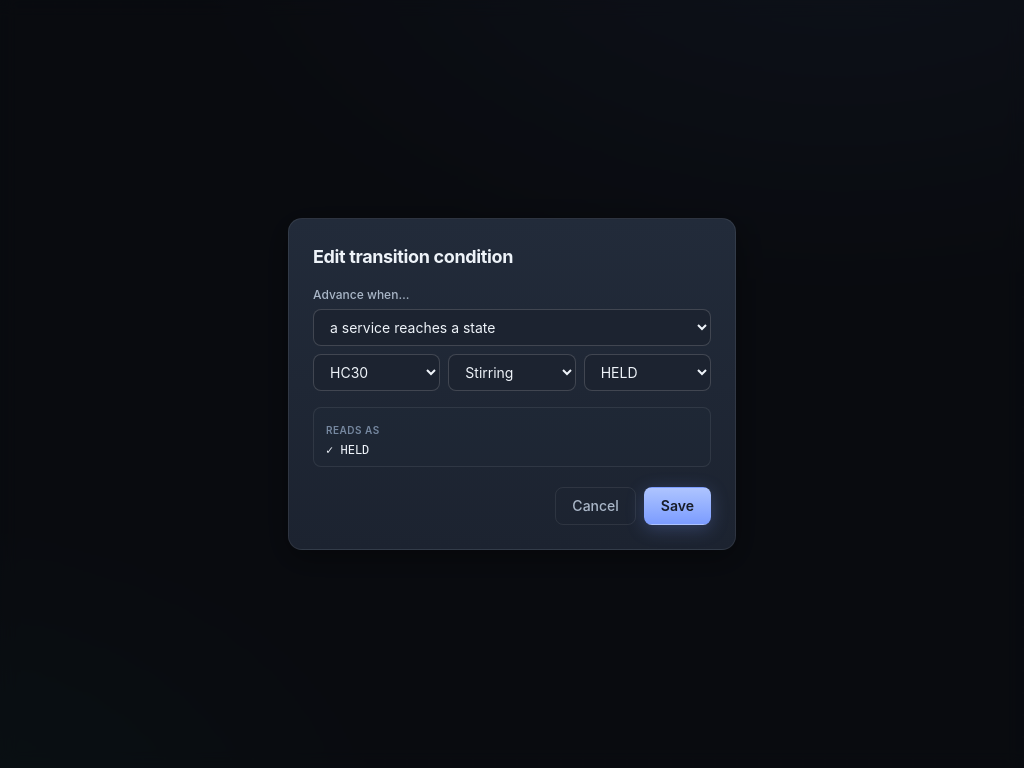
Scenario: Save is gated on a complete tree › is disabled while a nested leaf is unfilled
The image size is (1024, 768).
Select "ALL of…" in the dropdown named "Condition kind" at (512, 328), box left=313, top=309, right=711, bottom=346
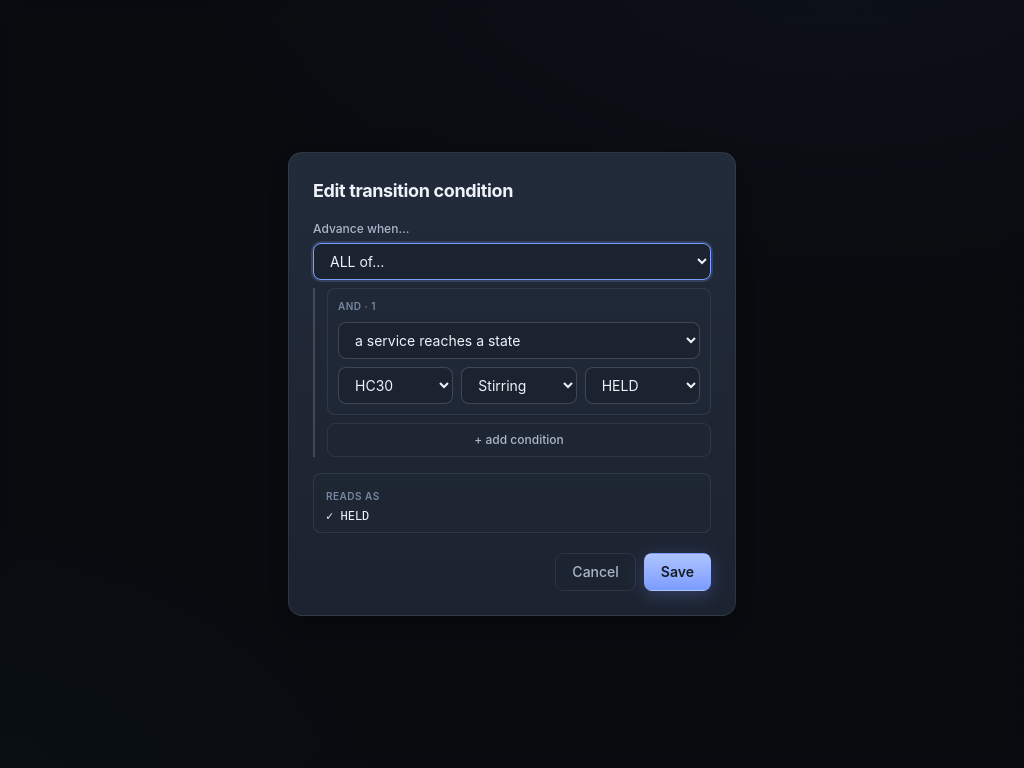
Click the button "+ add condition" at (519, 440), box left=327, top=423, right=711, bottom=457
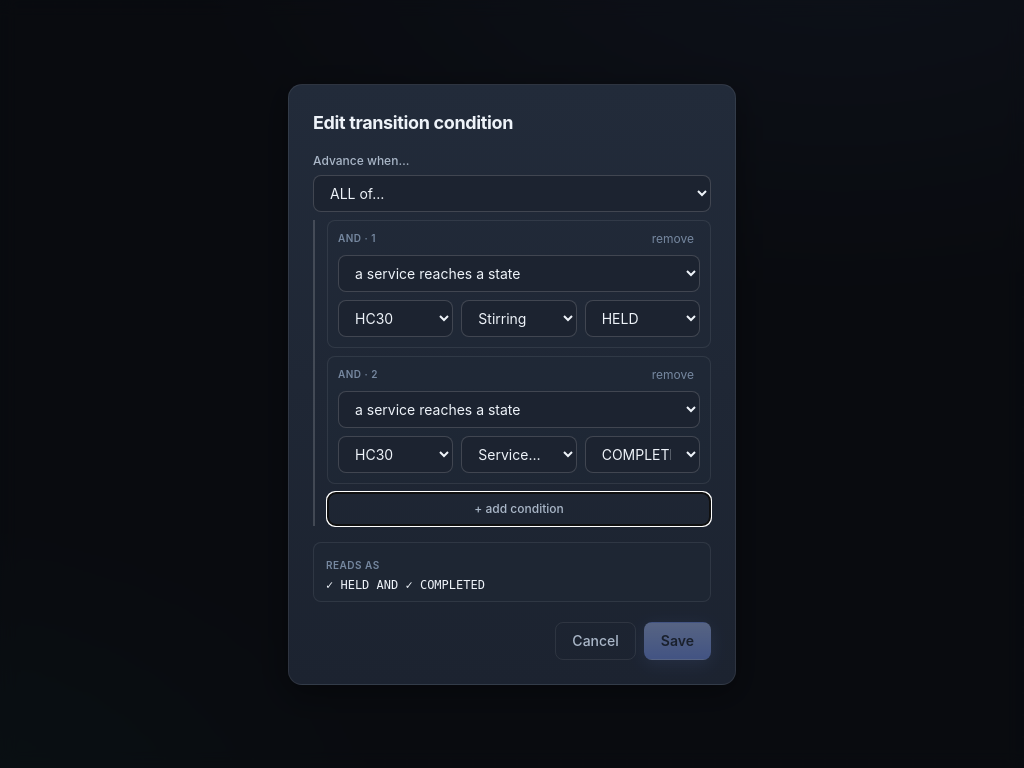
Now the button "Save" is disabled, box left=644, top=622, right=711, bottom=660
Select "Stirring" in the 2nd dropdown named "Service" at (519, 454), box left=461, top=436, right=577, bottom=472
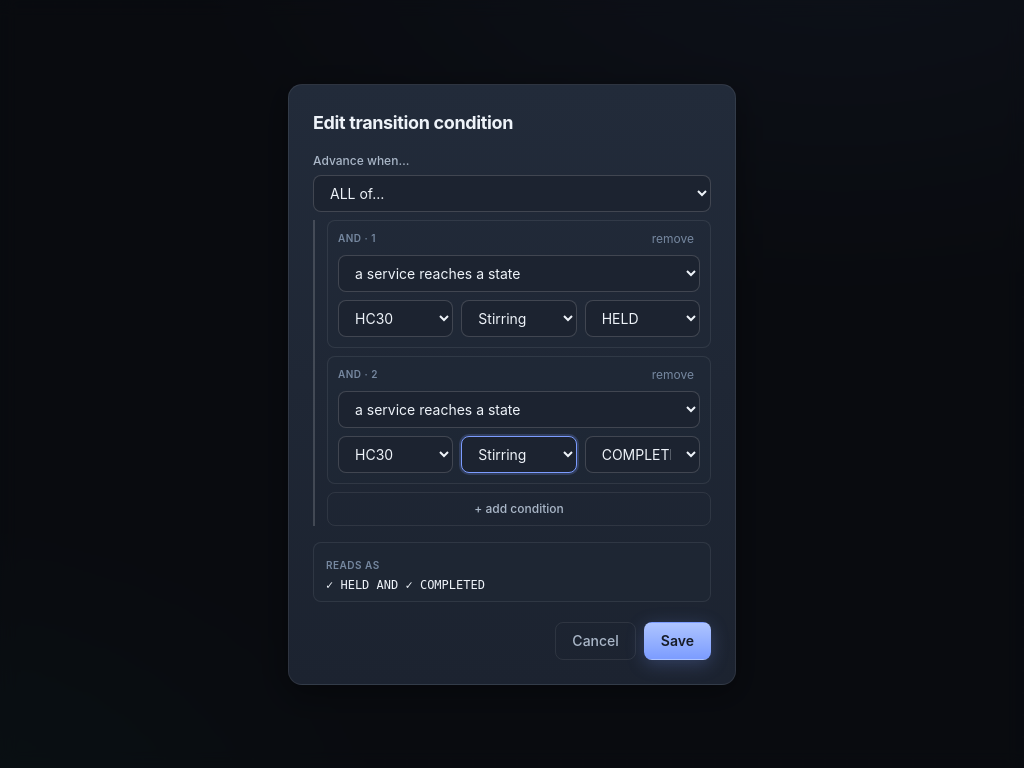
Now the button "Save" is enabled, box left=644, top=622, right=711, bottom=660
